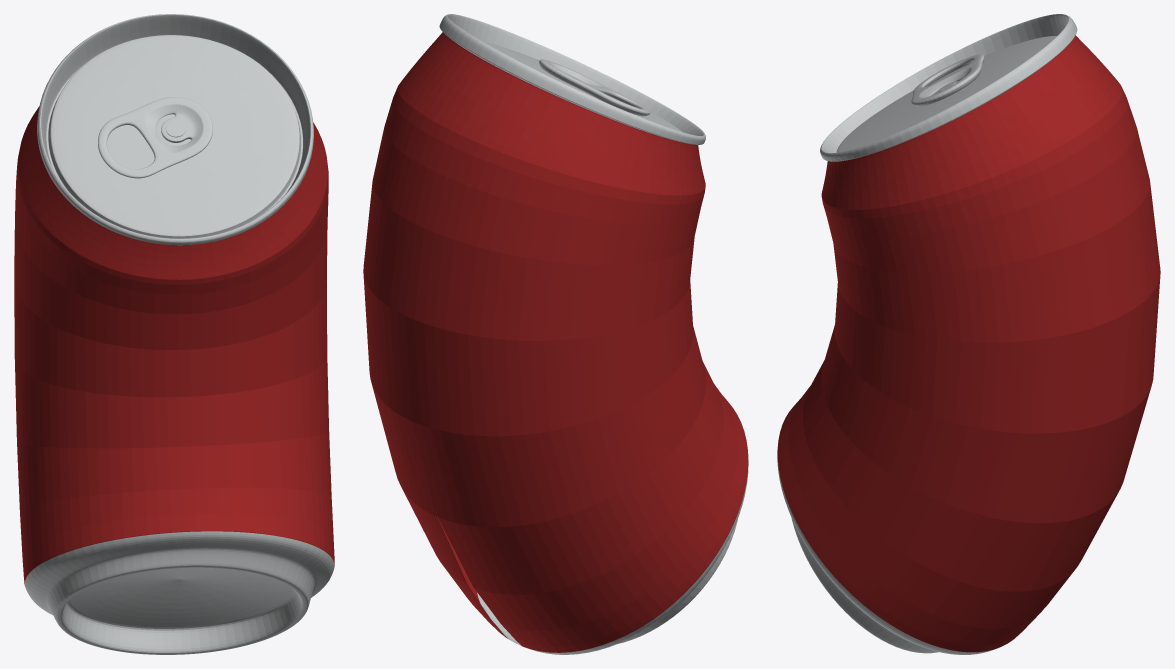
Rendered from bend_high_0.obj.
3 views of the same model, side by side, from view 1: azimuth 30°, elevation 25°; view 2: azimuth 150°, elevation 25°; view 3: azimuth 270°, elevation 25° (orthographic). The views are drawn at different scales.
Parts seen in each view (by area): view 1: model; view 2: model; view 3: model.
Boxes of the visible parts, x1,y1,x2,y2 form: model: (14, 14, 334, 654); model: (363, 14, 748, 654); model: (777, 14, 1160, 654).
Bounding box in the file's own units: 0.076 × 0.1446 × 0.0813.
1 material, 1 textured.
